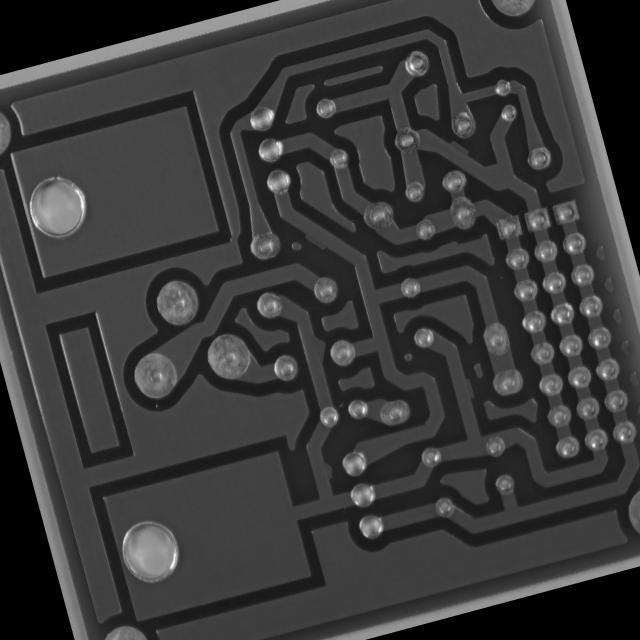spur: (298, 222, 335, 258), (300, 328, 332, 369), (438, 132, 474, 166), (452, 372, 480, 407), (314, 454, 340, 486)
